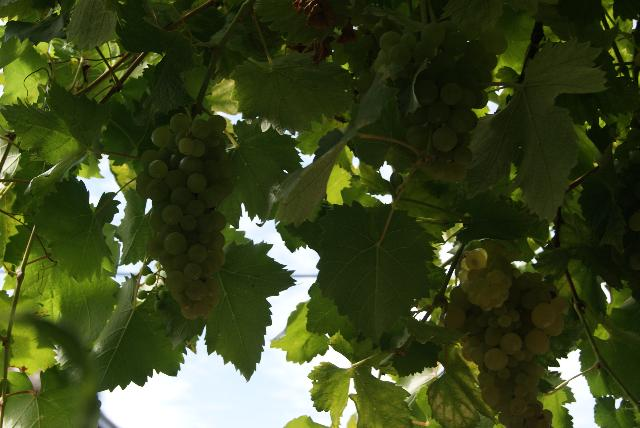grapes: (375, 20, 508, 181), (136, 114, 236, 320), (445, 274, 569, 428), (458, 240, 516, 311)
